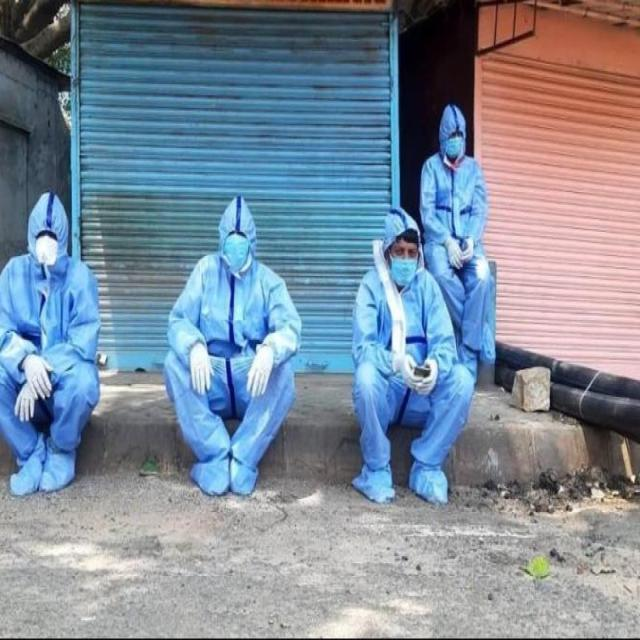gloves: (242, 342, 277, 400), (185, 342, 216, 394), (22, 355, 58, 399), (8, 385, 38, 423)
